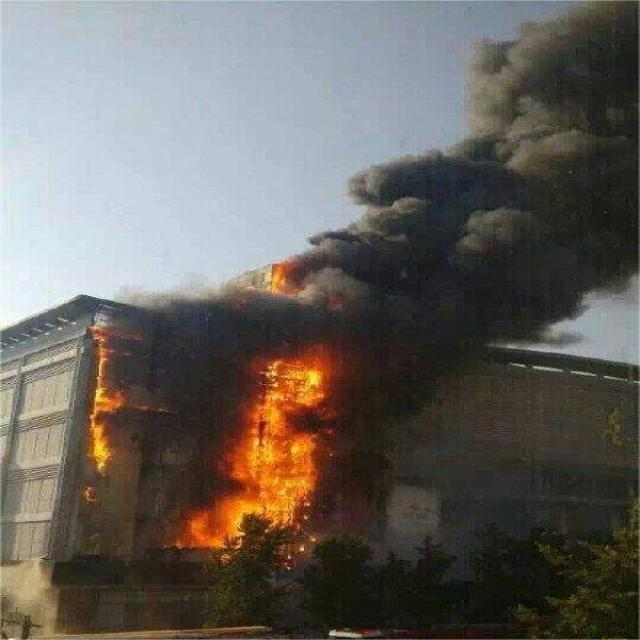Fire: (184, 348, 328, 558), (92, 326, 125, 472)
Smoke: (178, 0, 640, 342)
